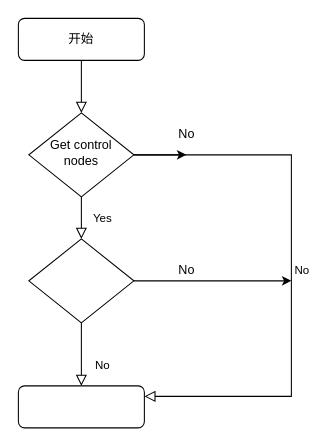
Image size: 328x446. Some labels were removed from this diagram. Each missing label, with the centre of its shape:
"exec qcmd get db information" goes at (x=81, y=280).
"结束" goes at (x=80, y=406).
